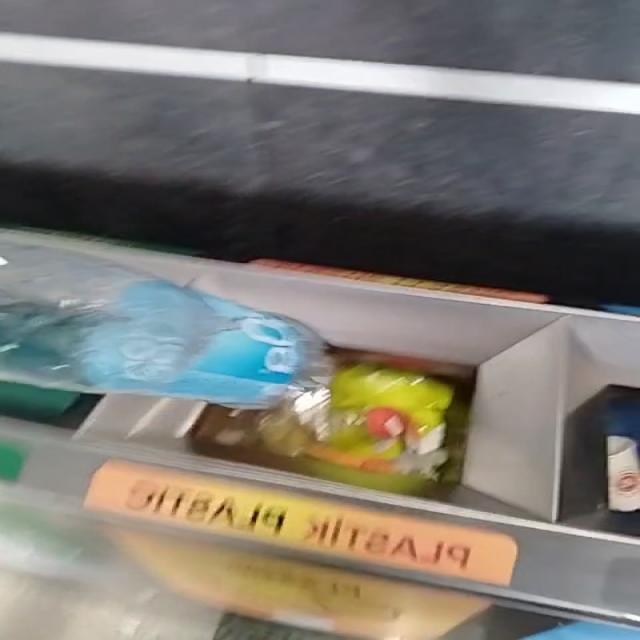plastic: (0, 243, 323, 408)
